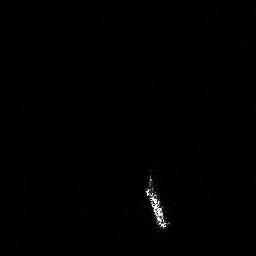ship: (142, 175, 171, 229)
